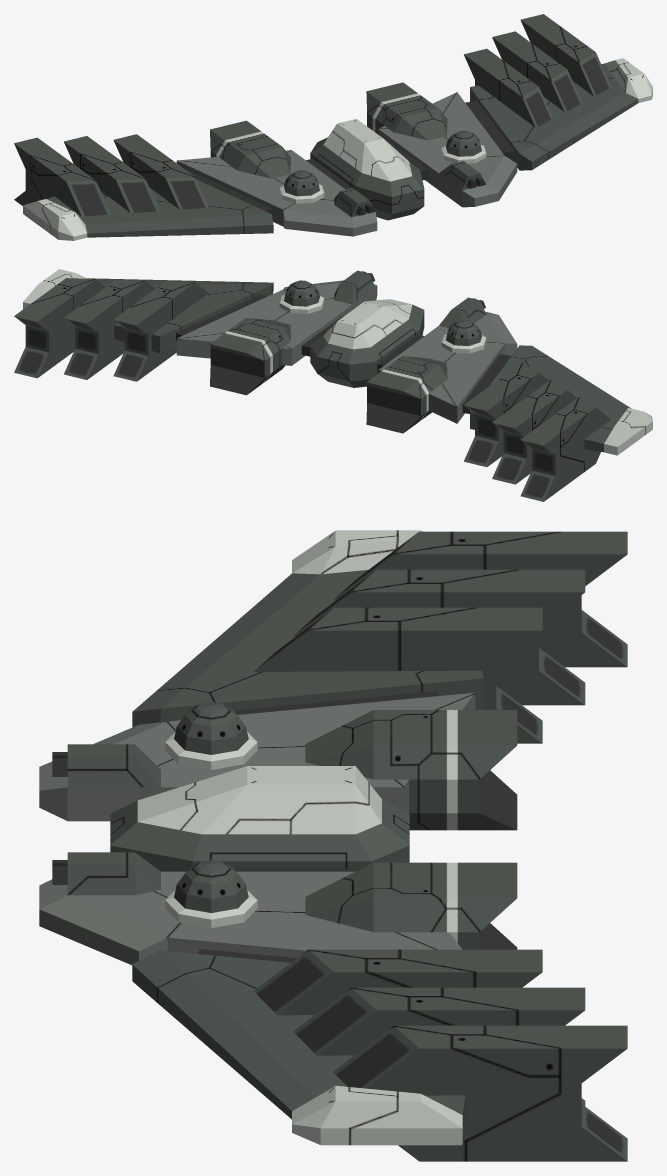
Rendered from Mid_Boss.obj.
The picture shows the model from 3 angles, top to bottom: view 1: azimuth 30°, elevation 25°; view 2: azimuth 150°, elevation 25°; view 3: azimuth 270°, elevation 25°; orthographic projection. The views are drawn at different scales.
Parts seen in each view (by area): view 1: Mid_Boss_Cube; view 2: Mid_Boss_Cube; view 3: Mid_Boss_Cube.
Boxes of the visible parts, x1,y1,x2,y2 form: Mid_Boss_Cube: (14,14,652,240); Mid_Boss_Cube: (14,269,652,501); Mid_Boss_Cube: (39,530,627,1161).
Size of the model in its own units: 22.02 by 2.26 by 9.44.
Materials: 1 (1 with a texture image).
